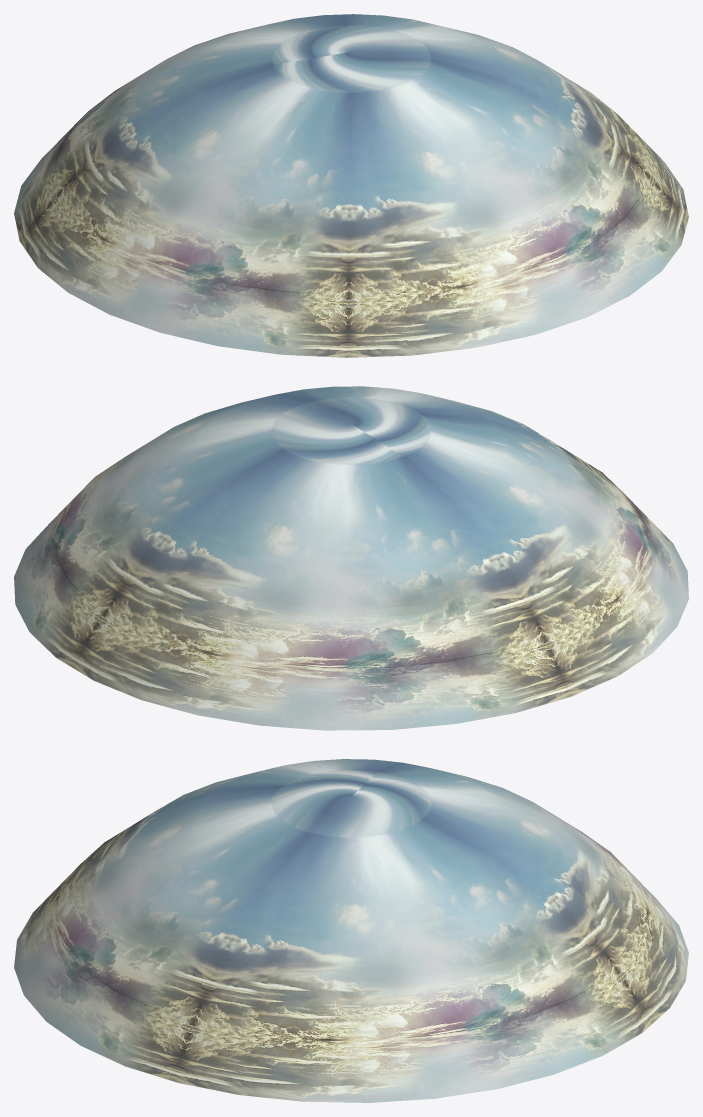
Rendered from SKY.FBX.
3 renders of one model, top to bottom at view 1: azimuth 30°, elevation 25°; view 2: azimuth 150°, elevation 25°; view 3: azimuth 270°, elevation 25°, orthographic.
Parts seen in each view (by area): view 1: sky; view 2: sky; view 3: sky.
Part boxes in pixels (left/top/right/bottom): sky: left=14, top=14, right=688, bottom=357; sky: left=14, top=386, right=688, bottom=730; sky: left=14, top=759, right=688, bottom=1102.
Size of the model in its own units: 27915 by 7471 by 27915.
Materials: 1 (1 with a texture image).
